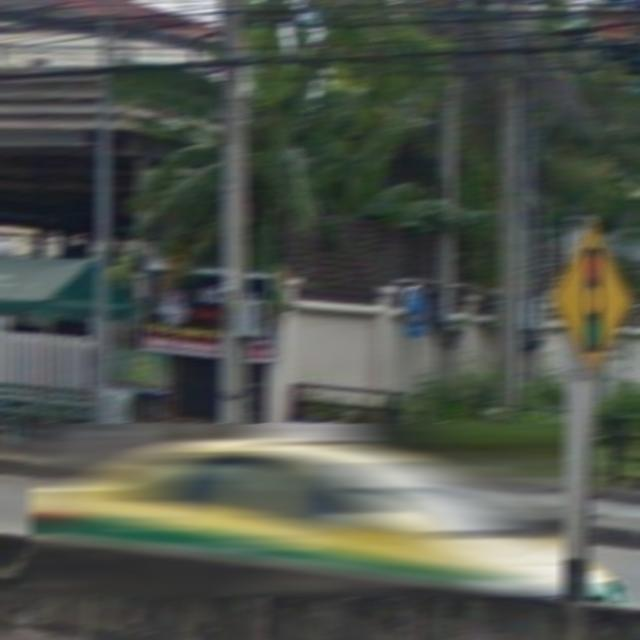Taxi: (28, 424, 565, 597)
